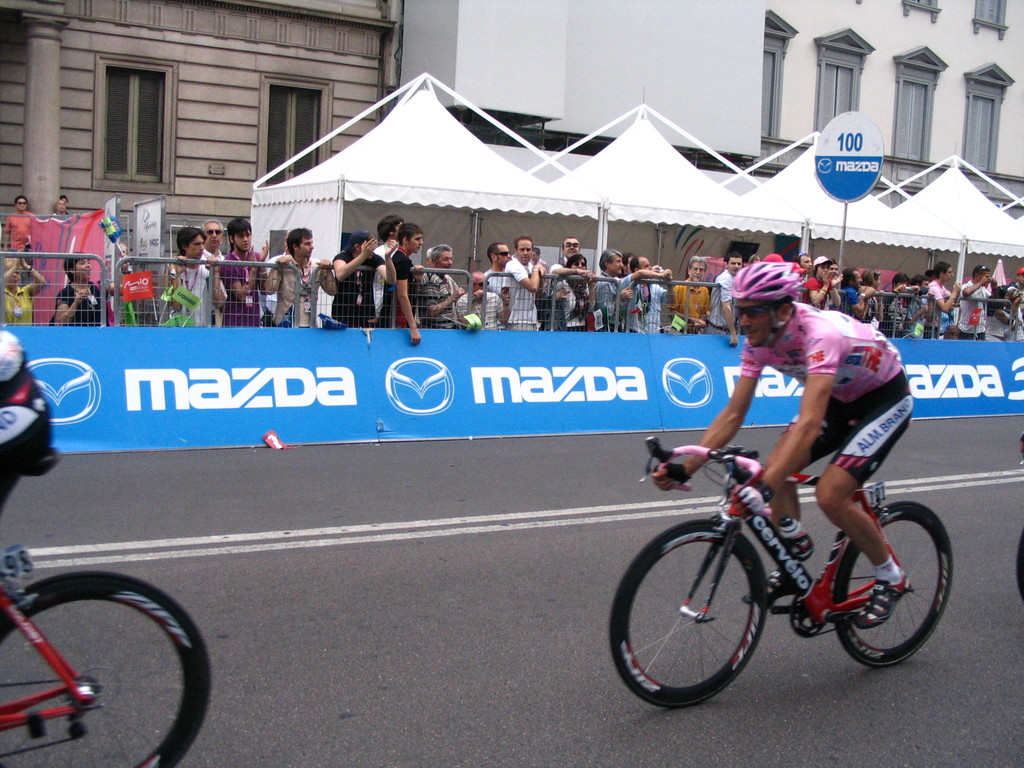Bike_toward: (616, 435, 957, 706)
